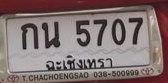txt01: (20, 22, 40, 50)
txt20: (40, 21, 61, 49)
